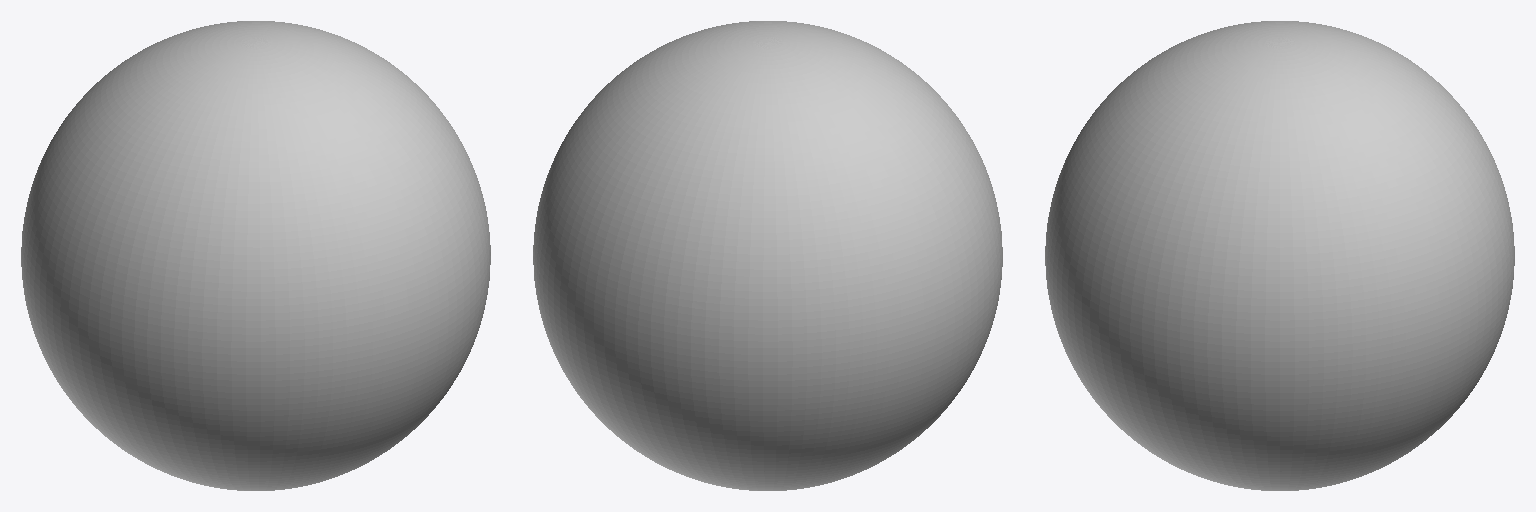
The model's file is jupiter.obj.
3 renders of one model, left to right at view 1: azimuth 30°, elevation 25°; view 2: azimuth 150°, elevation 25°; view 3: azimuth 270°, elevation 25°, orthographic.
Parts seen in each view (by area): view 1: Jupiter_Sphere.005; view 2: Jupiter_Sphere.005; view 3: Jupiter_Sphere.005.
Boxes of the visible parts, box(x1,y1,x2,y2) form: Jupiter_Sphere.005: box(21, 21, 490, 490); Jupiter_Sphere.005: box(533, 21, 1002, 490); Jupiter_Sphere.005: box(1045, 21, 1514, 490).
Size of the model in its own units: 1.99 by 2 by 1.99.